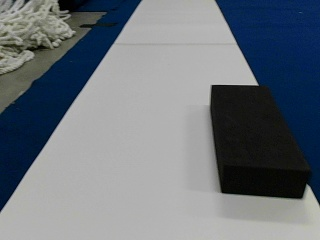block: (211, 86, 309, 200)
